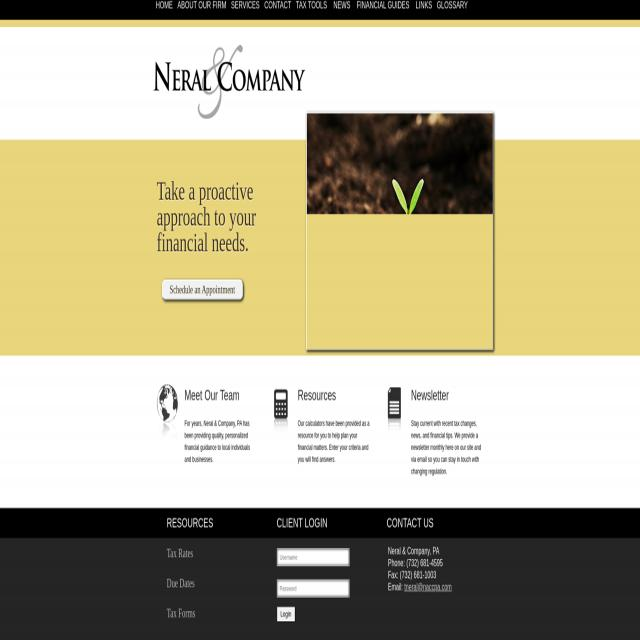button: (153, 39, 305, 125), (162, 279, 243, 300), (157, 384, 183, 444), (270, 384, 293, 444), (384, 384, 406, 443), (354, 0, 412, 20), (175, 0, 229, 20), (434, 0, 470, 20), (294, 0, 329, 20), (229, 0, 262, 20), (262, 0, 294, 20), (153, 0, 175, 20), (331, 0, 353, 20), (414, 0, 434, 20), (277, 606, 295, 622)
field: (277, 548, 349, 566), (277, 579, 349, 597)
